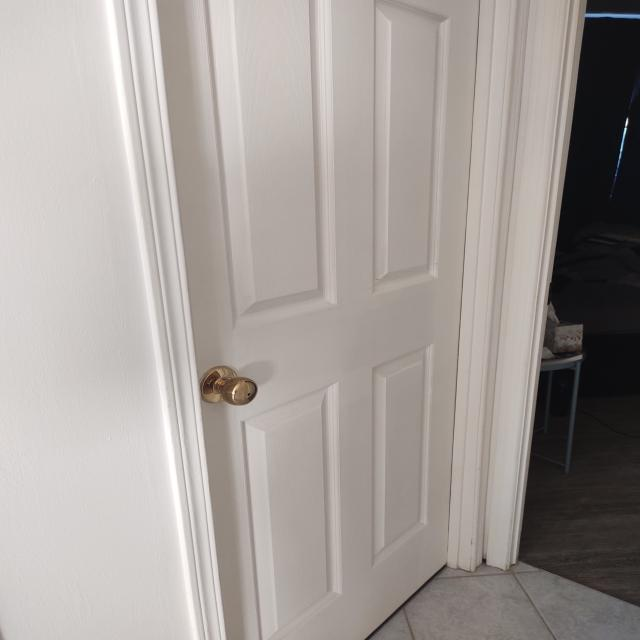door-knob: (200, 366, 257, 405)
